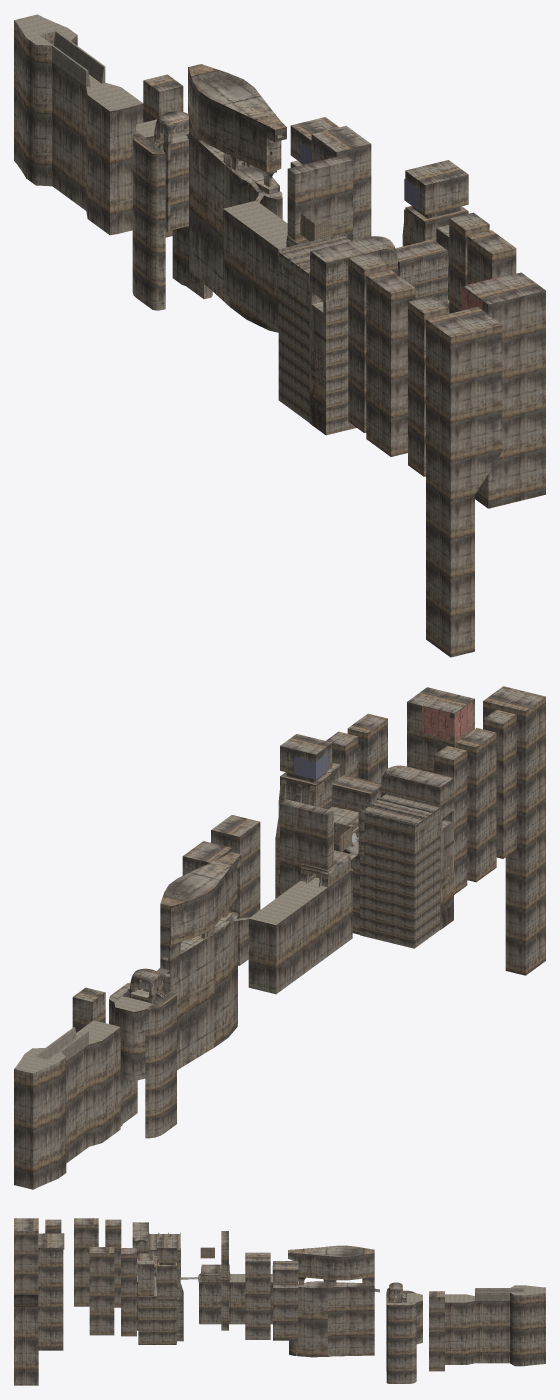
The model's file is SM_Tutorial_BLock_00.fbx.
The picture shows the model from 3 angles, top to bottom: view 1: azimuth 30°, elevation 25°; view 2: azimuth 150°, elevation 25°; view 3: azimuth 270°, elevation 25°; orthographic projection. The views are drawn at different scales.
Visible parts, largest first — view 1: SM_Tutorial_BLock_00, SM_ReeperBahn_00_Block_00.018, SM_ReeperBahn_00_Block_00.020, SM_ReeperBahn_00_Block_00.051, SM_ReeperBahn_00_Block_00.008; view 2: SM_ReeperBahn_00_Block_00.020, SM_Tutorial_BLock_00, SM_ReeperBahn_00_Block_00.018, SM_ReeperBahn_00_Block_00.051, SM_ReeperBahn_00_Block_00.008; view 3: SM_ReeperBahn_00_Block_00.020, SM_ReeperBahn_00_Block_00.018, SM_Tutorial_BLock_00, SM_ReeperBahn_00_Block_00.051, SM_ReeperBahn_00_Block_00.008.
Boxes of the visible parts, x1,y1,x2,y2 form: SM_Tutorial_BLock_00: [348, 230, 545, 657]; SM_ReeperBahn_00_Block_00.018: [14, 14, 212, 310]; SM_ReeperBahn_00_Block_00.020: [188, 64, 371, 332]; SM_ReeperBahn_00_Block_00.051: [278, 160, 489, 435]; SM_ReeperBahn_00_Block_00.008: [300, 142, 501, 310]; SM_ReeperBahn_00_Block_00.020: [160, 799, 353, 1070]; SM_Tutorial_BLock_00: [347, 686, 545, 975]; SM_ReeperBahn_00_Block_00.018: [14, 968, 176, 1189]; SM_ReeperBahn_00_Block_00.051: [275, 731, 453, 948]; SM_ReeperBahn_00_Block_00.008: [294, 702, 472, 852]; SM_ReeperBahn_00_Block_00.020: [198, 1231, 374, 1357]; SM_ReeperBahn_00_Block_00.018: [386, 1282, 545, 1383]; SM_Tutorial_BLock_00: [14, 1218, 121, 1385]; SM_ReeperBahn_00_Block_00.051: [121, 1222, 199, 1344]; SM_ReeperBahn_00_Block_00.008: [43, 1233, 272, 1275].
Bounding box in the file's own units: 9268 × 18002 × 50752.
